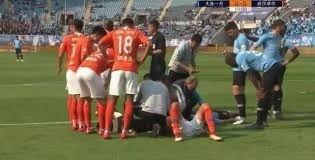falling: (153, 88, 231, 139)
